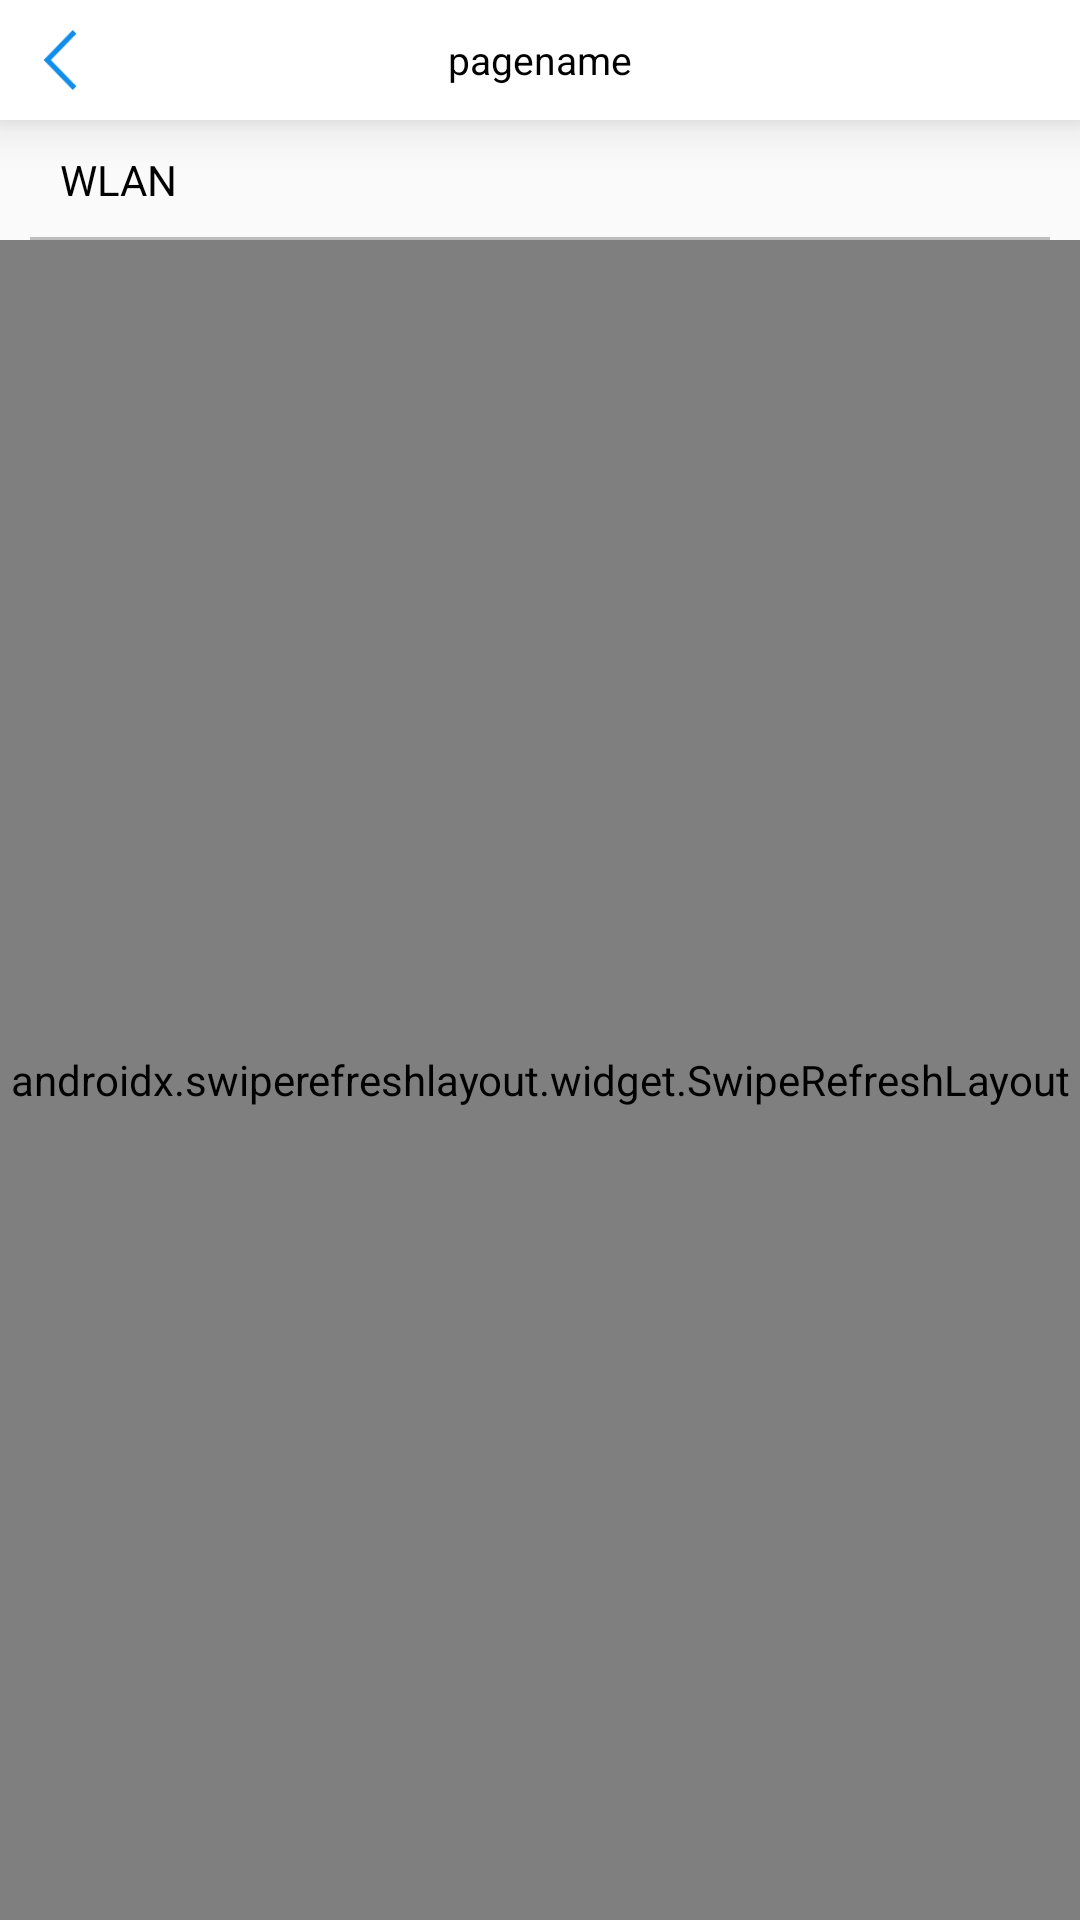

Where icons sit on this 1080px x 1920px app screen, as detection(x1, y1, x2, y2):
fanhui: detection(44, 30, 77, 90)
